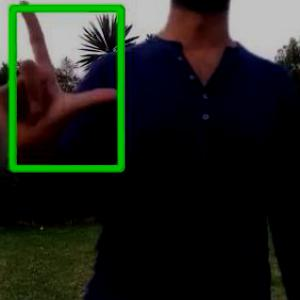land_hand: (0, 0, 125, 153)
